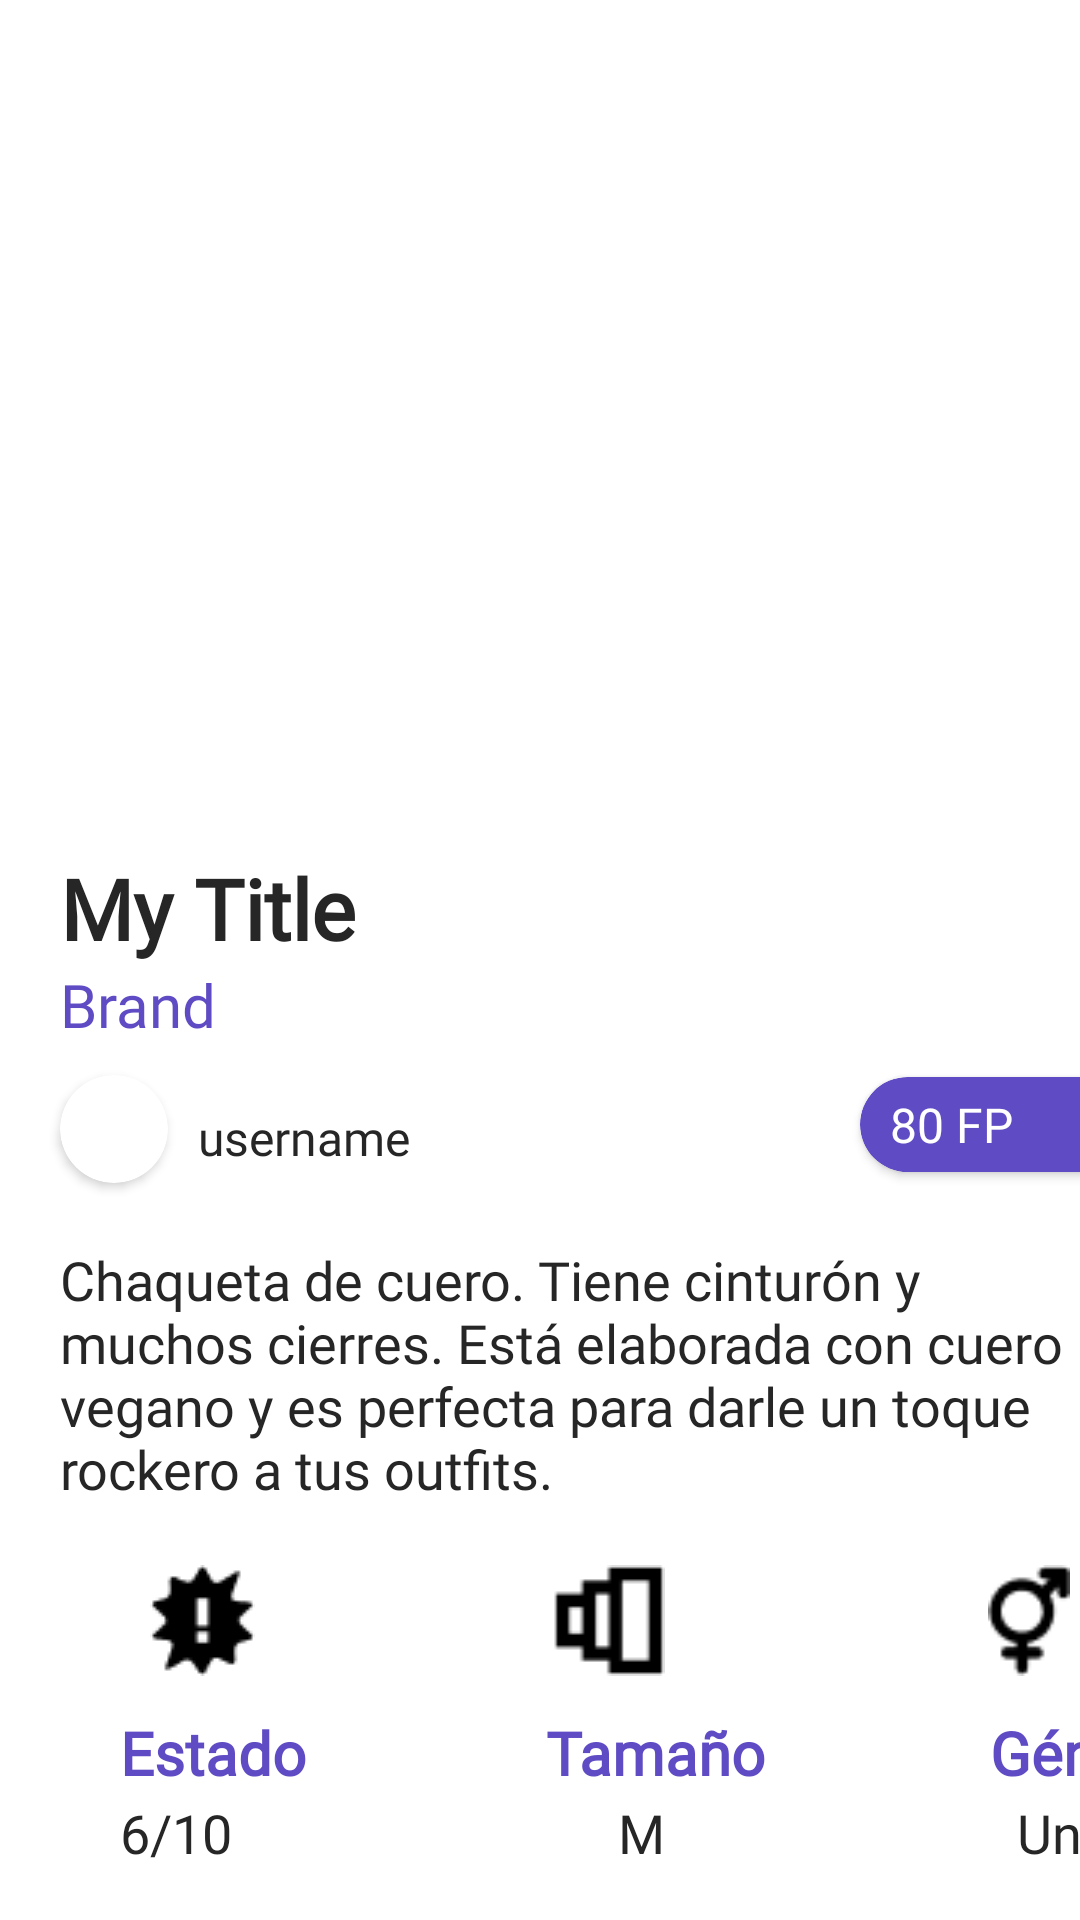

Named icons in this screenshot (1080×1920) and their bounding boxes, Rect(x1, y1, x2, y2):
size: Rect(554, 1565, 665, 1676)
